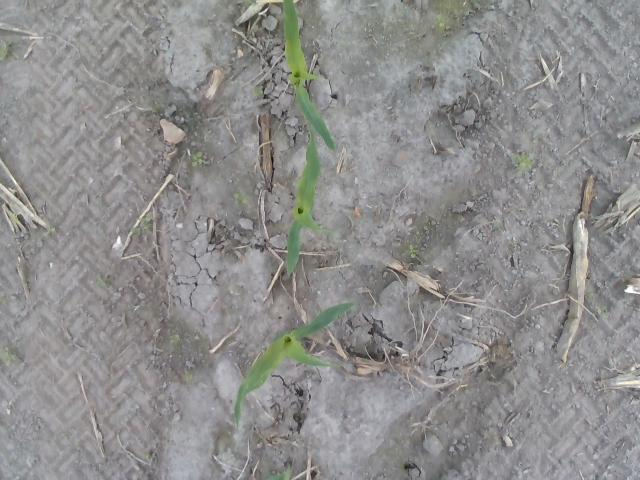Maize: (234, 301, 357, 427), (285, 100, 339, 274), (281, 0, 338, 153)
Weeds: (512, 151, 536, 170), (129, 216, 151, 234), (192, 152, 208, 167), (594, 305, 610, 319), (0, 352, 17, 365), (407, 244, 421, 259), (234, 192, 248, 205), (0, 41, 9, 60), (252, 86, 264, 100), (44, 223, 55, 237), (438, 13, 446, 30), (182, 373, 194, 382), (492, 221, 502, 231), (98, 274, 106, 286), (169, 334, 180, 342)
